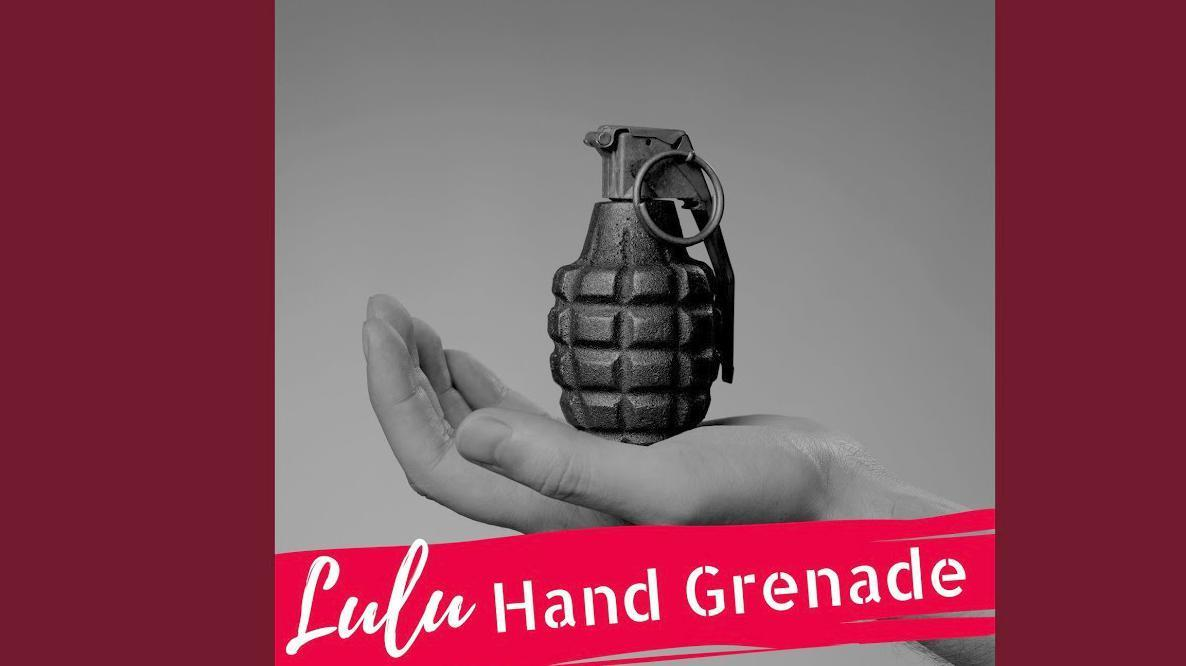Grenade: (550, 123, 737, 447)
